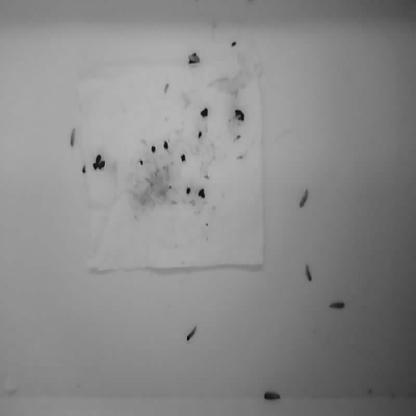PtecticusTenebrifer: (298, 187, 311, 208), (68, 126, 77, 150), (328, 301, 346, 312), (186, 327, 198, 343), (304, 262, 313, 282), (264, 391, 282, 401), (187, 54, 200, 64)
